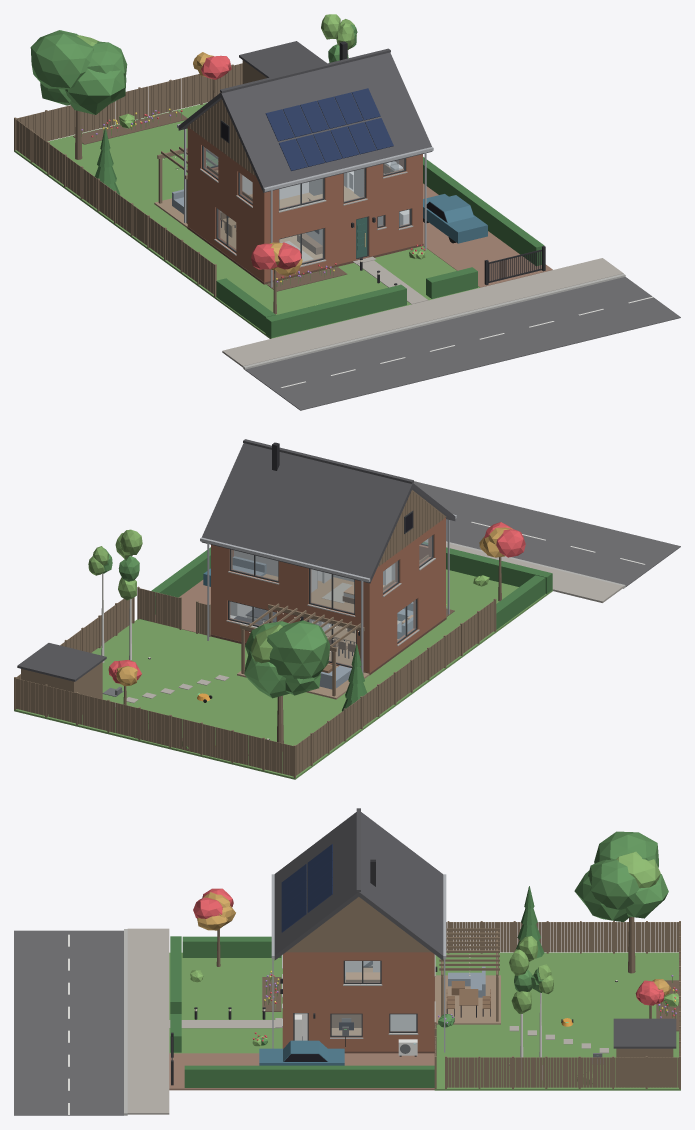
File: house.glb
3 views of the same model, one above another, from view 1: azimuth 30°, elevation 25°; view 2: azimuth 150°, elevation 25°; view 3: azimuth 270°, elevation 25° (orthographic).
Parts seen in each view (by area): view 1: road, roof_tiles, fence_boards, garden_floor, first_facade, pavement, ground_facade, solar_panels, tree_oak, front_hedge, front_garden_floor, driveway_floor (+24 smaller); view 2: roof_tiles, garden_floor, fence_boards, road, first_facade, tree_oak, ground_facade, front_hedge, first_glass, fence_posts, front_garden_floor, shed_roof (+19 smaller); view 3: road, garden_floor, fence_boards, roof_tiles, front_garden_floor, pavement, first_facade, tree_oak, driveway_hedge, ground_facade, gable_cladding, driveway_floor (+24 smaller).
Boxes of the visible parts, <box> form: road: <box>245,277,680,410</box>; roof_tiles: <box>178,52,432,192</box>; fence_boards: <box>15,63,242,294</box>; garden_floor: <box>14,102,263,297</box>; first_facade: <box>187,127,422,235</box>; pavement: <box>222,258,623,367</box>; ground_facade: <box>187,180,422,282</box>; solar_panels: <box>265,88,393,170</box>; tree_oak: <box>30,30,127,159</box>; front_hedge: <box>216,267,477,338</box>; front_garden_floor: <box>214,246,479,338</box>; driveway_floor: <box>423,183,552,287</box>; roof_tiles: <box>202,443,455,583</box>; garden_floor: <box>14,619,495,779</box>; fence_boards: <box>16,588,494,776</box>; road: <box>413,481,680,586</box>; first_facade: <box>211,517,445,626</box>; tree_oak: <box>244,620,329,751</box>; ground_facade: <box>211,571,445,672</box>; front_hedge: <box>423,542,552,629</box>; first_glass: <box>231,536,432,613</box>; fence_posts: <box>14,586,496,777</box>; front_garden_floor: <box>446,569,552,632</box>; shed_roof: <box>17,643,106,681</box>; road: <box>14,930,123,1115</box>; garden_floor: <box>434,952,680,1090</box>; fence_boards: <box>435,922,680,1087</box>; roof_tiles: <box>274,812,443,960</box>; front_garden_floor: <box>169,952,282,1053</box>; pavement: <box>127,928,169,1114</box>; first_facade: <box>283,952,434,1005</box>; tree_oak: <box>574,831,668,973</box>; driveway_hedge: <box>184,1065,434,1087</box>; ground_facade: <box>283,1005,434,1051</box>; gable_cladding: <box>286,897,431,952</box>; driveway_floor: <box>169,1053,434,1090</box>.
Bounding box in the file's own units: 23 × 10.61 × 35.2.
